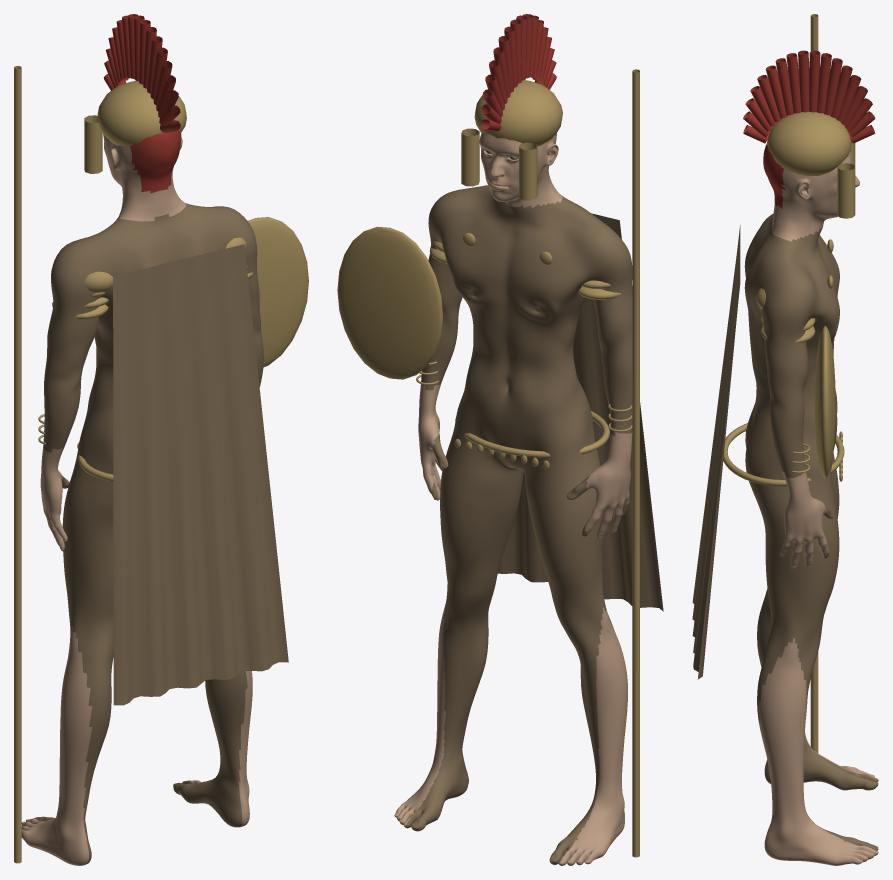
Rendered from party_hoplite.glb.
3 renders of one model, left to right at view 1: azimuth 30°, elevation 25°; view 2: azimuth 150°, elevation 25°; view 3: azimuth 270°, elevation 25°, orthographic. The views are drawn at different scales.
Visible parts, largest first — view 1: Cloak, Anatomy, Spear, Shield, Helmet, CheekGuard.001; view 2: Anatomy, Shield, Cloak, Spear, Helmet, Belt, CheekGuard, CheekGuard.001; view 3: Anatomy, Cloak, Helmet, Shield, Spear, Belt, CheekGuard, RedCrest.009, RedCrest.008, RedCrest.010, RedCrest.007, RedCrest.006 (+7 smaller).
Part boxes in pixels (x1=…): Cloak: x1=113, y1=244, x2=288, y2=705; Anatomy: x1=21, y1=130, x2=263, y2=865; Spear: x1=14, y1=66, x2=21, y2=863; Shield: x1=248, y1=217, x2=308, y2=367; Helmet: x1=97, y1=80, x2=186, y2=146; CheekGuard.001: x1=84, y1=115, x2=102, y2=173; Anatomy: x1=394, y1=133, x2=632, y2=865; Shield: x1=337, y1=226, x2=442, y2=379; Cloak: x1=497, y1=213, x2=663, y2=611; Spear: x1=632, y1=69, x2=639, y2=857; Helmet: x1=474, y1=80, x2=562, y2=146; Belt: x1=455, y1=411, x2=609, y2=457; CheekGuard: x1=461, y1=128, x2=479, y2=186; CheekGuard.001: x1=519, y1=142, x2=537, y2=200; Anatomy: x1=744, y1=144, x2=878, y2=865; Cloak: x1=692, y1=225, x2=740, y2=679; Helmet: x1=766, y1=111, x2=851, y2=176; Shield: x1=814, y1=326, x2=835, y2=477; Spear: x1=810, y1=14, x2=818, y2=753; Belt: x1=723, y1=423, x2=844, y2=486; CheekGuard: x1=837, y1=163, x2=855, y2=218; RedCrest.009: x1=798, y1=50, x2=809, y2=112; RedCrest.008: x1=809, y1=50, x2=820, y2=112; RedCrest.010: x1=786, y1=53, x2=801, y2=113; RedCrest.007: x1=817, y1=53, x2=831, y2=113; RedCrest.006: x1=824, y1=58, x2=842, y2=115.
Size of the model in its own units: 0.851 by 2.21 by 0.4836.
